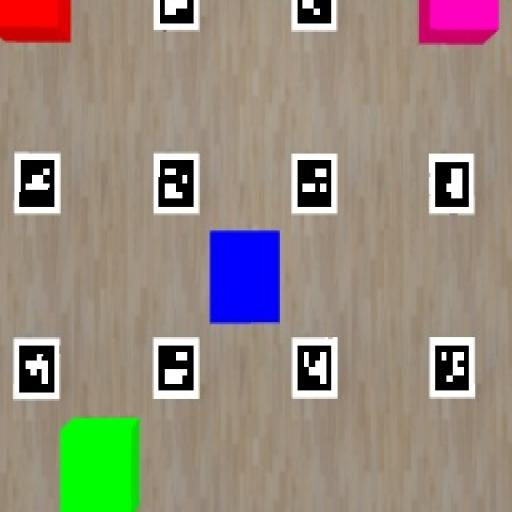car: (61, 419, 140, 511), (210, 231, 279, 324), (420, 0, 499, 44)
fire: (0, 0, 70, 42)
